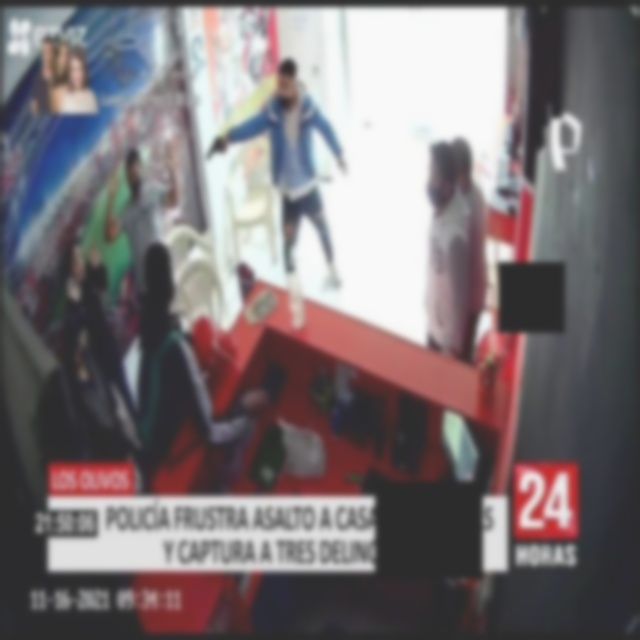gun: (203, 124, 231, 172)
